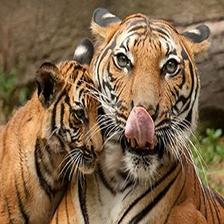tiger: (94, 4, 202, 181), (29, 58, 107, 182)
